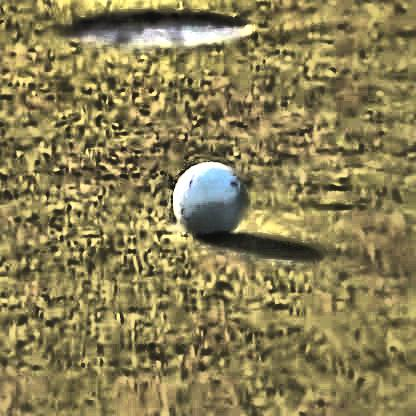golfball: (170, 158, 244, 234)
